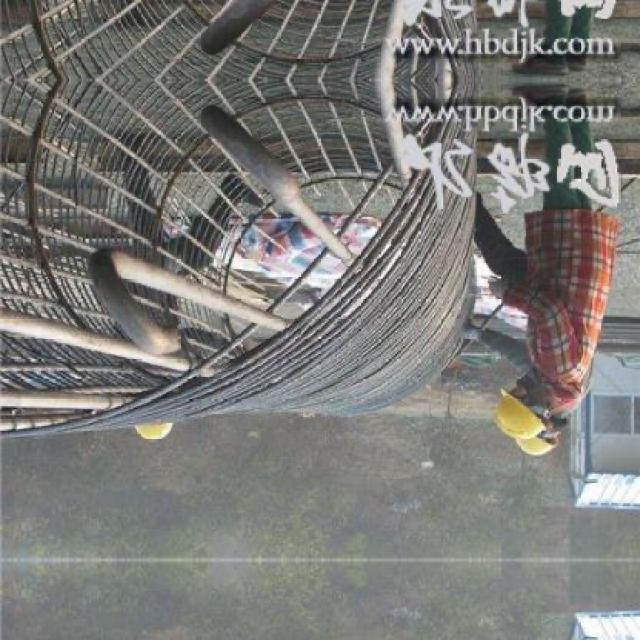con casco: (441, 354, 597, 458)
